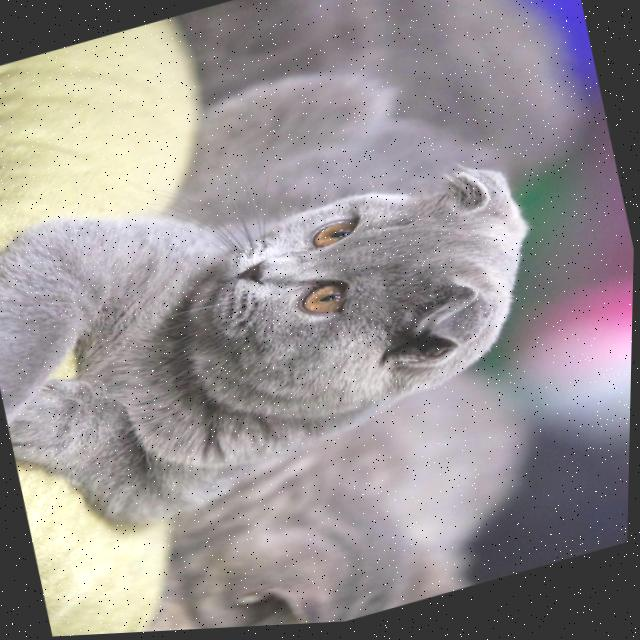Scottish Fold: (0, 23, 579, 562)
